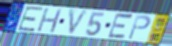5: (85, 11, 107, 37)
E: (105, 12, 134, 41), (16, 6, 46, 33)
H: (35, 7, 64, 34)
P: (126, 14, 152, 41)
V: (66, 8, 90, 38)
